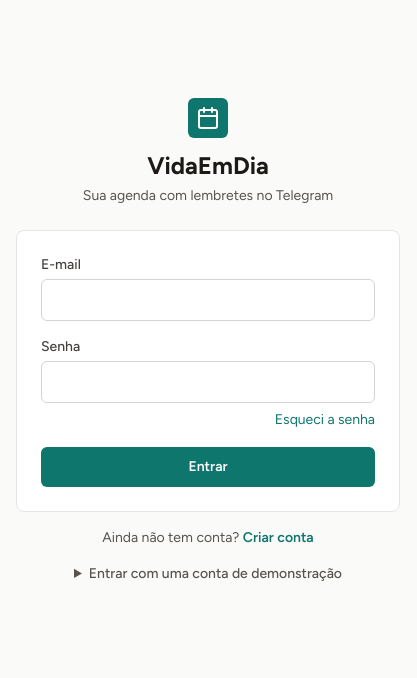
Test: Criar Conta › na tela de login, o botão Criar conta leva à tela com o título Criar conta
Click the button "Criar conta": (278, 538) [243, 528, 314, 548]
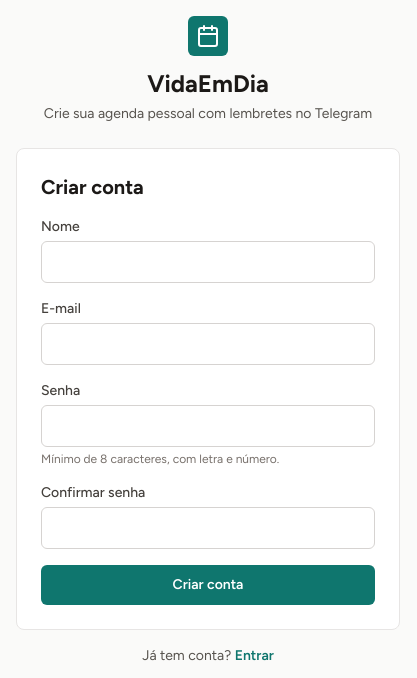
Expected: the heading "Criar conta" is shown, [41, 175, 144, 199]
